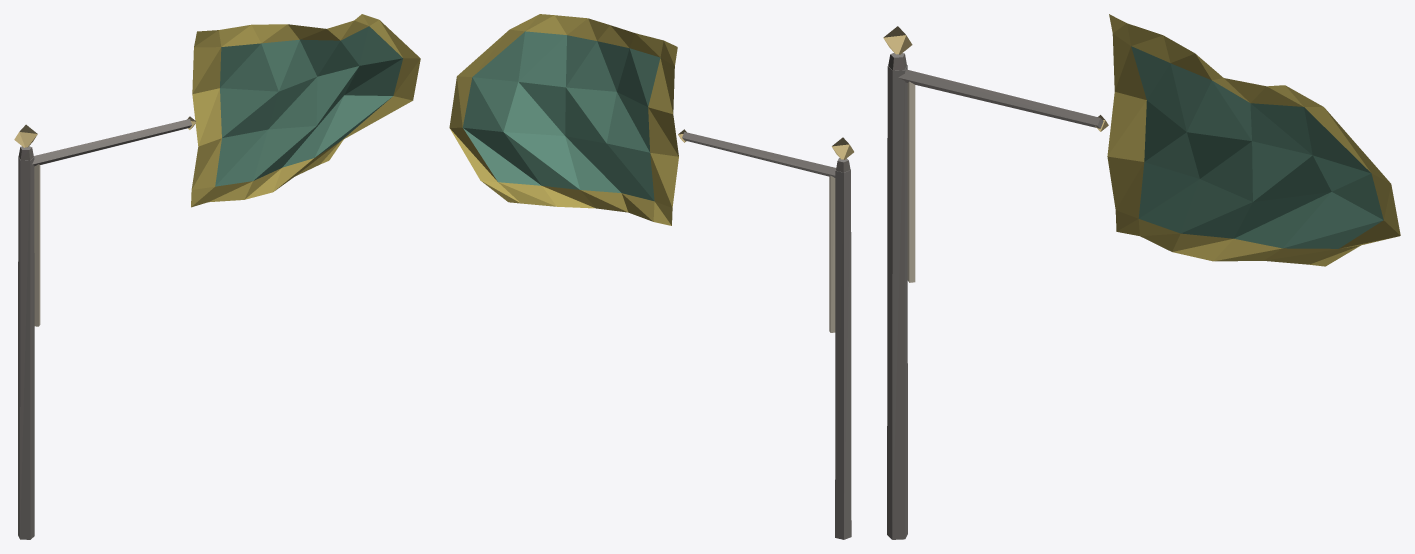
Rendered from flag.roundFly.cuiqi__pole.stick.fangun__armFly.glb.
3 views of the same model, side by side, from view 1: azimuth 30°, elevation 25°; view 2: azimuth 150°, elevation 25°; view 3: azimuth 330°, elevation 25° (orthographic). The views are drawn at different scales.
Parts seen in each view (by area): view 1: flag.roundFly.cuiqi; view 2: flag.roundFly.cuiqi; view 3: flag.roundFly.cuiqi.
Part boxes in pixels (<box>): flag.roundFly.cuiqi: <box>14,14,420,539</box>; flag.roundFly.cuiqi: <box>449,14,853,539</box>; flag.roundFly.cuiqi: <box>883,14,1400,539</box>.
Bounding box in the file's own units: 2.37 × 2.57 × 0.4452.
